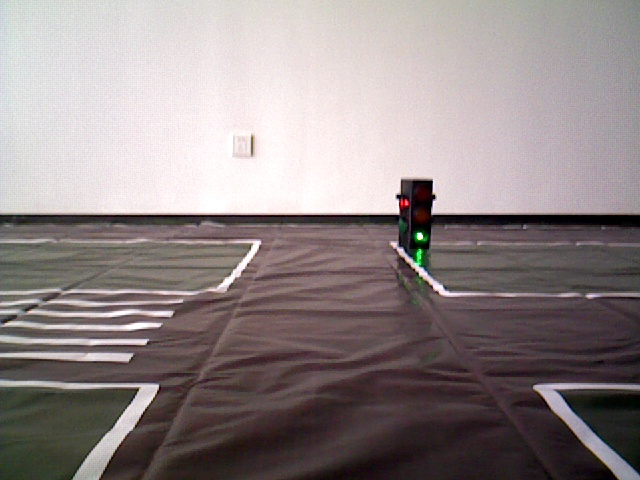green: (399, 180, 427, 244)
